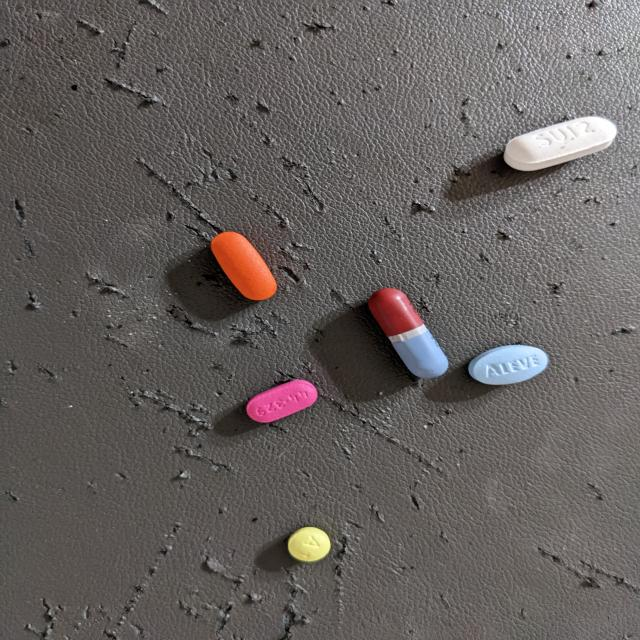non-organic waste: (367, 288, 450, 380), (502, 115, 618, 173), (209, 230, 278, 302), (467, 343, 550, 386), (245, 378, 319, 424), (286, 526, 332, 562)
